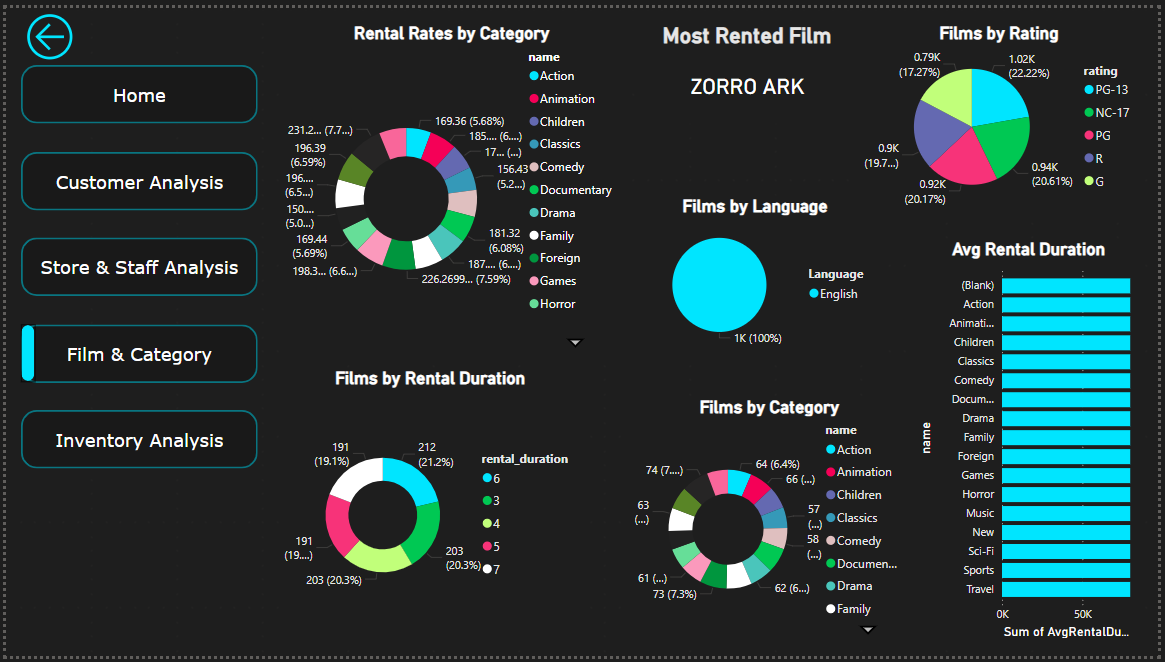

What the dashboard file says about the page in this screenshot:
{"tool":"powerbi","page":{"name":"Film & Category","canvas":[1280,720],"ordinal":3},"visuals":[{"type":"shape","box":[16,160,263,65],"z":0,"group":"g1"},{"type":"donutChart","title":"Films by Rental Duration","fields":{"Category":["film.rental_duration"],"Y":["CountNonNull(film.film_id)"]},"box":[304,400,336,304],"z":0},{"type":"pieChart","title":"Films by Rating","fields":{"Category":["film.rating"],"Y":["CountNonNull(inventory.film_id)"]},"box":[944,16,320,208],"z":1000},{"type":"shape","box":[16,256,263,65],"z":1000,"group":"g1"},{"type":"pieChart","title":"Films by Language","fields":{"Category":["language.name"],"Y":["CountNonNull(film.film_id)"]},"box":[688,208,288,176],"z":2000},{"type":"shape","box":[16,352,263,65],"z":2000,"group":"g1"},{"type":"donutChart","title":"Rental Rates by Category","fields":{"Category":["category.name"],"Y":["Sum(film.rental_rate)"]},"box":[304,16,384,368],"z":3000},{"type":"shape","box":[16,448,263,65],"z":3000,"group":"g1"},{"type":"shape","box":[16,64,263,65],"z":4000,"group":"g1"},{"type":"clusteredBarChart","title":"Avg Rental Duration","fields":{"Category":["category.name"],"Y":["Sum(rental.AvgRentalDuration)"]},"box":[1008,256,256,448],"z":4000},{"type":"group","id":"g1","title":"Group 3","box":[16,64,263,449],"z":5000},{"type":"shape","box":[16,352,16,64],"z":6000},{"type":"donutChart","title":"Films by Category","fields":{"Category":["category.name"],"Y":["CountNonNull(film.film_id)"]},"box":[688,432,320,272],"z":7000},{"type":"card","title":"Most Rented Film","fields":{"Values":["film.MostRentedFilm"]},"box":[704,16,240,112],"z":8000},{"type":"actionButton","box":[16,0,64,64],"z":9000}]}

Visuals, with their boxes in screenshot pixels (x1, y1, x2, y2), scaled from the page's 1280x720 canvas onto the 1165x662 screenshot:
shape: bbox=[15, 147, 254, 207]
"Films by Rental Duration" donutChart: bbox=[277, 368, 582, 647]
"Films by Rating" pieChart: bbox=[859, 15, 1150, 206]
shape: bbox=[15, 235, 254, 295]
"Films by Language" pieChart: bbox=[626, 191, 888, 353]
shape: bbox=[15, 324, 254, 383]
"Rental Rates by Category" donutChart: bbox=[277, 15, 626, 353]
shape: bbox=[15, 412, 254, 472]
shape: bbox=[15, 59, 254, 119]
"Avg Rental Duration" clusteredBarChart: bbox=[917, 235, 1150, 647]
"Group 3" group: bbox=[15, 59, 254, 472]
shape: bbox=[15, 324, 29, 382]
"Films by Category" donutChart: bbox=[626, 397, 917, 647]
"Most Rented Film" card: bbox=[641, 15, 859, 118]
actionButton: bbox=[15, 0, 73, 59]
